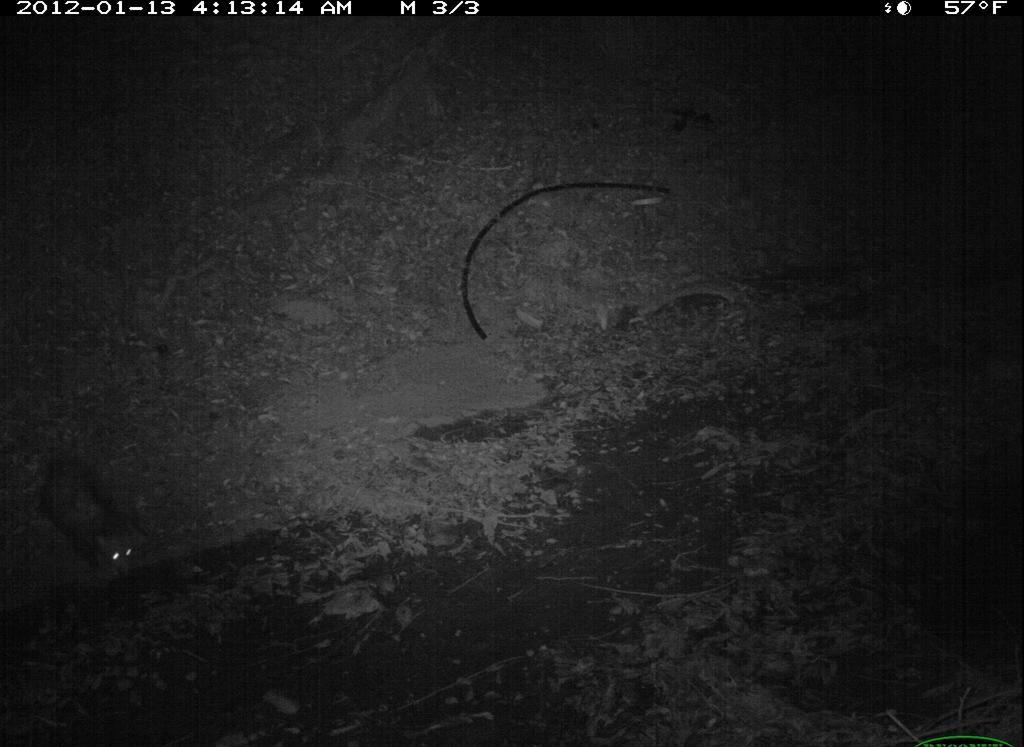opossum: (21, 424, 153, 593)
